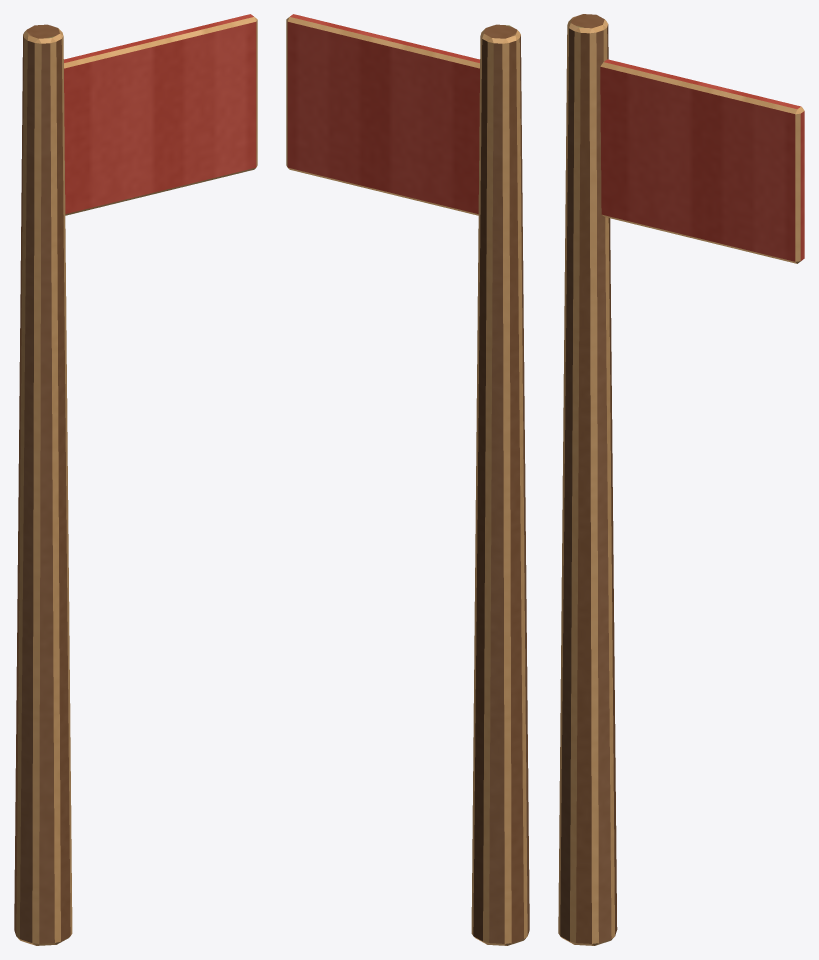
File: sm_prop_banner_post.glb
3 views of the same model, side by side, from view 1: azimuth 30°, elevation 25°; view 2: azimuth 150°, elevation 25°; view 3: azimuth 330°, elevation 25° (orthographic).
Parts seen in each view (by area): view 1: sm_prop_banner_post; view 2: sm_prop_banner_post; view 3: sm_prop_banner_post.
Boxes of the visible parts, x1,y1,x2,y2 form: sm_prop_banner_post: (14, 14, 257, 945); sm_prop_banner_post: (286, 14, 529, 945); sm_prop_banner_post: (558, 14, 804, 945).
Size of the model in its own units: 0.358 by 1.3 by 0.0761.
1 material, 1 textured.
